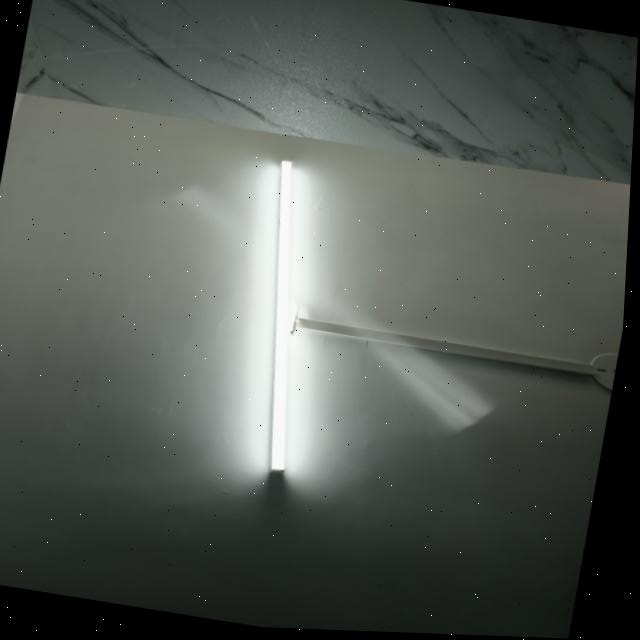fluorescent tube: (221, 149, 351, 490)
